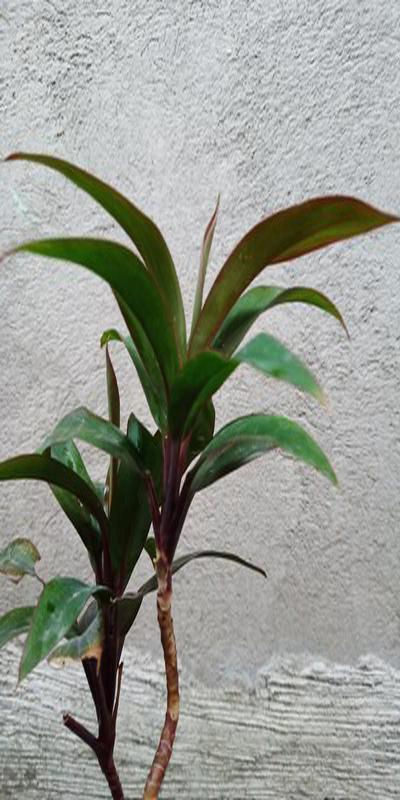Baston de san jose: (7, 152, 333, 782)
